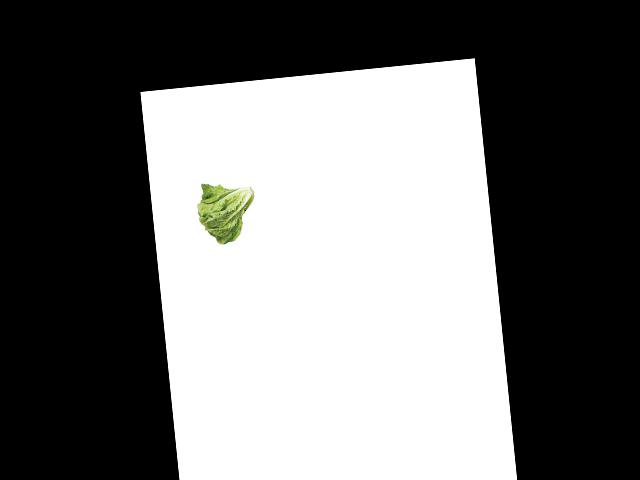lettuce: (192, 177, 262, 247)
